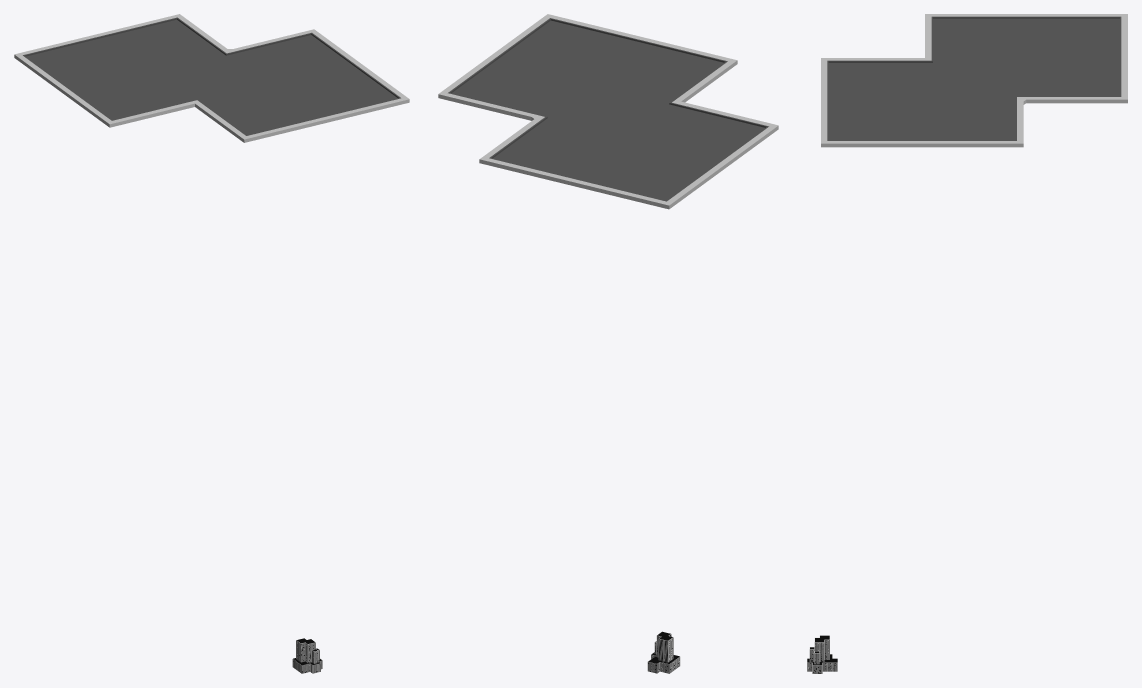
The model's file is largebuilding.obj.
3 views of the same model, side by side, from view 1: azimuth 30°, elevation 25°; view 2: azimuth 150°, elevation 25°; view 3: azimuth 270°, elevation 25° (orthographic). The views are drawn at different scales.
Parts seen in each view (by area): view 1: group_8.001, group_4, group_8, Material2.001; view 2: group_8.001, group_4, group_8, Material2.001; view 3: group_8.001, group_4, group_8, Material2.001.
Part boxes in pixels (x1=…): group_8.001: x1=24, y1=18, x2=398, y2=134; group_4: x1=14, y1=14, x2=409, y2=142; group_8: x1=23, y1=17, x2=400, y2=135; Material2.001: x1=292, y1=640, x2=322, y2=673; group_8.001: x1=450, y1=19, x2=766, y2=200; group_4: x1=438, y1=14, x2=778, y2=209; group_8: x1=448, y1=18, x2=768, y2=201; Material2.001: x1=648, y1=634, x2=680, y2=673; group_8.001: x1=828, y1=17, x2=1119, y2=140; group_4: x1=821, y1=14, x2=1127, y2=147; group_8: x1=827, y1=16, x2=1121, y2=140; Material2.001: x1=807, y1=640, x2=837, y2=673.
Bounding box in the file's own units: 1542 × 3200 × 1611.
